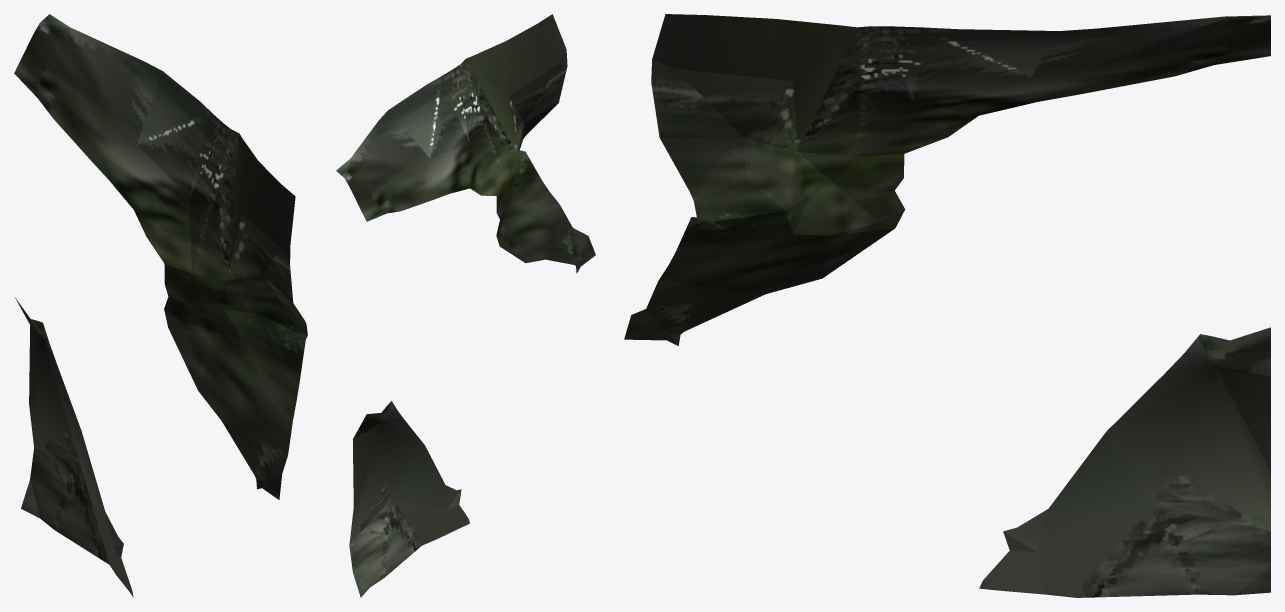
3 views of the same model, side by side, from view 1: azimuth 30°, elevation 25°; view 2: azimuth 150°, elevation 25°; view 3: azimuth 270°, elevation 25° (orthographic). The views are drawn at different scales.
Size of the model in its own units: 0.2225 by 1.67 by 1.65.
1 material, 1 textured.
